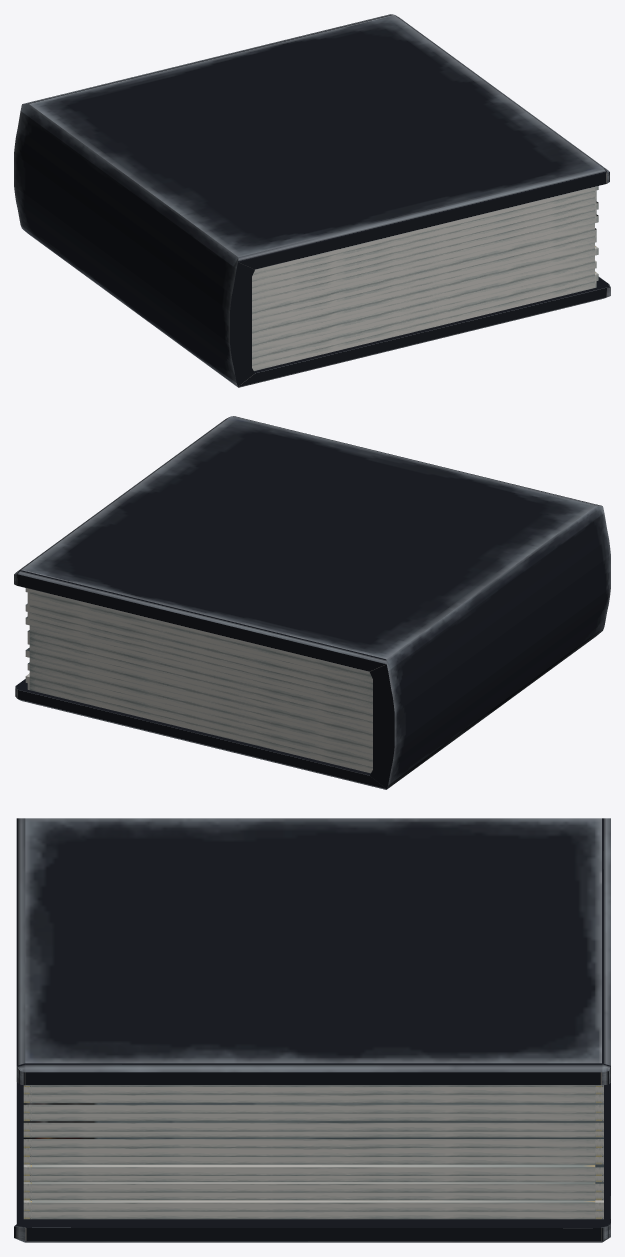
The model's file is Book.fbx.
3 views of the same model, one above another, from view 1: azimuth 30°, elevation 25°; view 2: azimuth 150°, elevation 25°; view 3: azimuth 270°, elevation 25° (orthographic). The views are drawn at different scales.
Visible parts, largest first — view 1: Cube; view 2: Cube; view 3: Cube.
Part boxes in pixels (left/top/right/bottom): Cube: left=14, top=14, right=610, bottom=387; Cube: left=14, top=416, right=610, bottom=789; Cube: left=14, top=818, right=610, bottom=1242.
Size of the model in its own units: 61.28 by 20 by 60.28.
